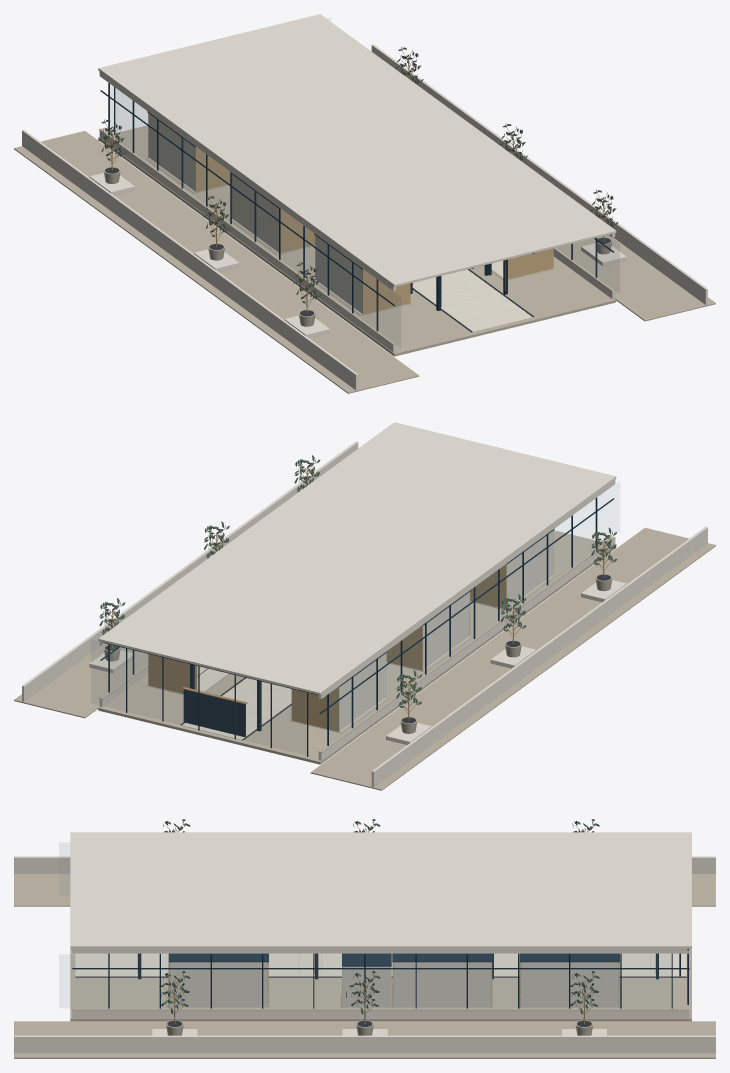
File: usa.glb
3 views of the same model, one above another, from view 1: azimuth 30°, elevation 25°; view 2: azimuth 150°, elevation 25°; view 3: azimuth 270°, elevation 25° (orthographic). The views are drawn at different scales.
Visible parts, largest first — view 1: SHOWROOM · usa process promenade; view 2: SHOWROOM · usa process promenade; view 3: SHOWROOM · usa process promenade, Wind in the olive crown (×3).
Part boxes in pixels (left/top/right/bottom): SHOWROOM · usa process promenade: left=14, top=14, right=715, bottom=393; SHOWROOM · usa process promenade: left=14, top=422, right=715, bottom=790; SHOWROOM · usa process promenade: left=14, top=830, right=715, bottom=1058; Wind in the olive crown (×3): left=159, top=971, right=599, bottom=1017.
Size of the model in its own units: 30.5 by 5.7 by 48.
